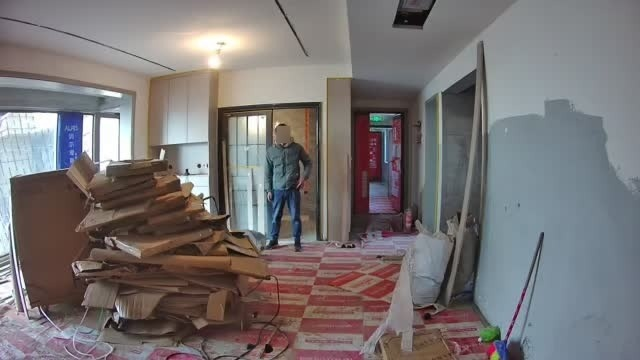people: (263, 123, 312, 252)
window: (1, 109, 120, 262)
